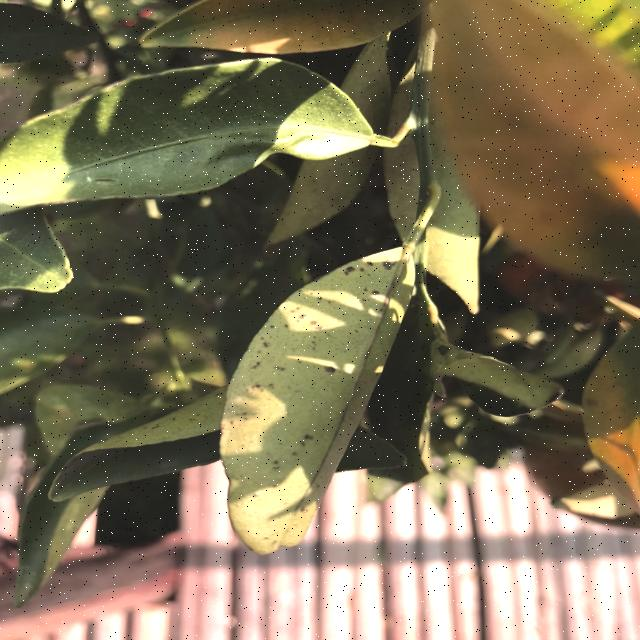melanose: (196, 250, 424, 541)
